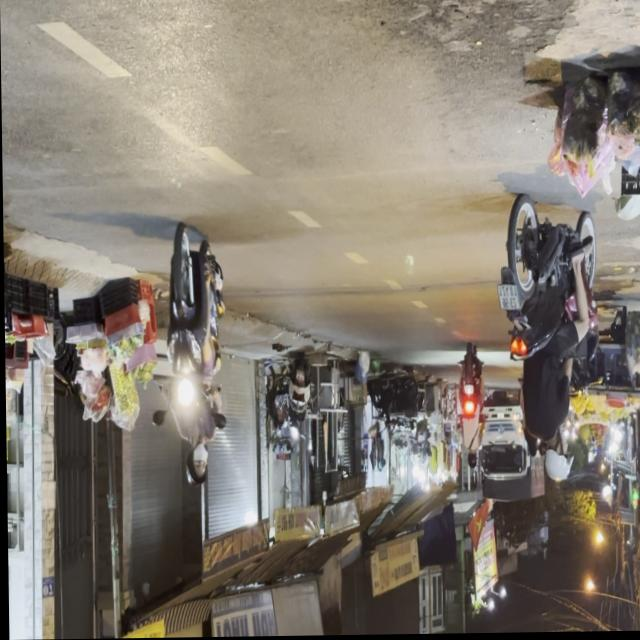helmet: (541, 436, 571, 485), (184, 444, 207, 488)
licenseplate: (494, 197, 600, 490), (159, 225, 228, 490)
nohelmet: (497, 288, 521, 313)
